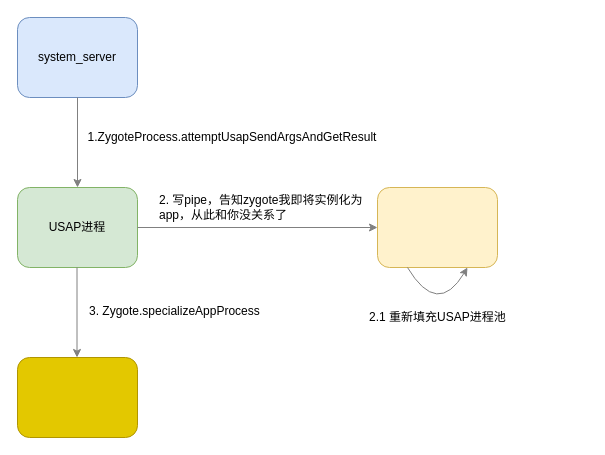
Image size: 605x455. Some labels were removed from this diagram. The shapes that lost their labels are listed below. From the top down, each one's centre as x and y in pixels, then its label:
the point at 437,227: zygote64
the point at 77,397: APP进程
